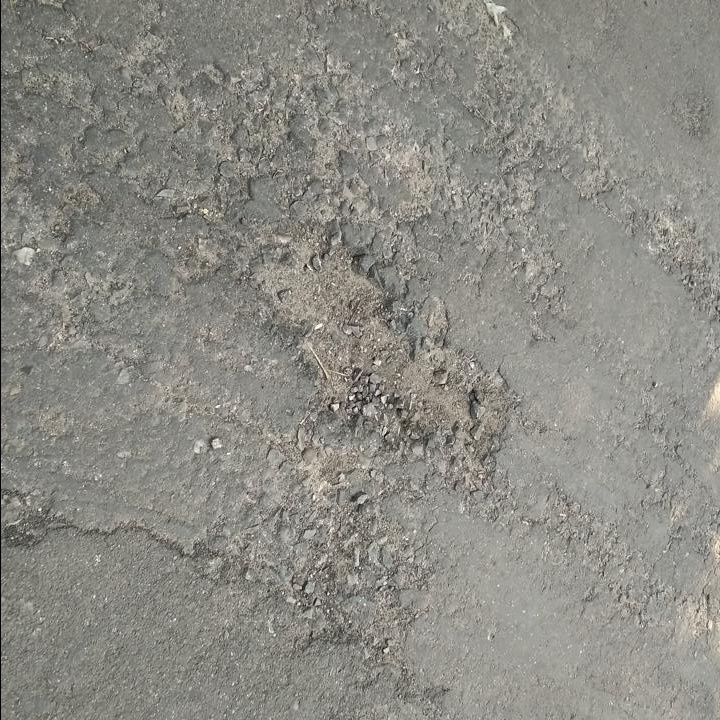pothole: (256, 227, 525, 503)
